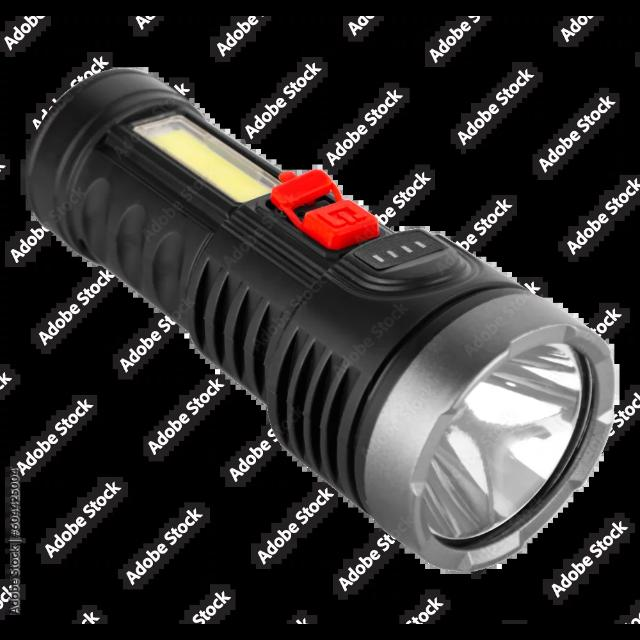Flashlight: (18, 59, 624, 583)
